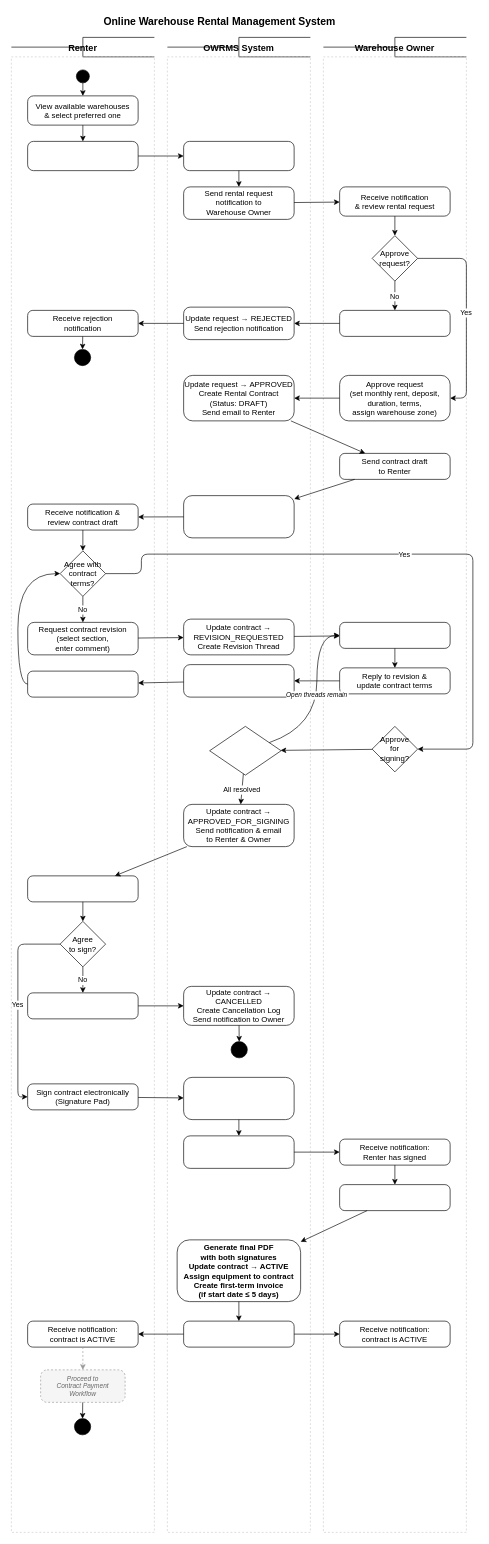
The diagram is 489 pixels wide and 1544 high, and some of its shapes have lost their labels. Each missing label, with the centre of its shape:
Check all Revision Threads resolved?: (245,750)
Decline to sign (enter reason): (82,1005)
Fill in and Submit Rental Request: (82,156)
Generate PDF with Renter's signature Update contract → PENDING_OWNER_SIGNATURE: (238,1098)
Receive notification: contract is ready to sign: (82,888)
Receive revision request notification & email: (394,635)
Reject the request (enter reason): (394,323)
Rental request created (Status: PENDING): (238,156)
Save updated terms Create new Contract Version Notify Renter: (238,680)
Send notification to Owner: "Renter has signed, please review and sign": (238,1151)
Send notification to Renter: "Contract is now ACTIVE": (238,1333)
Sign contract electronically (Owner Signature Pad): (394,1197)
Update contract → NEGOTIATING Create Contract Version Send notification & email: (238,516)
View updated contract version: (82,683)
